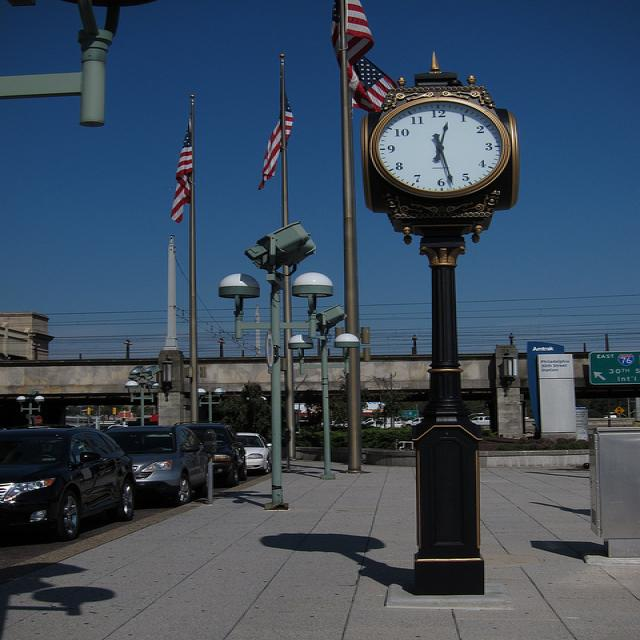Vehicle: (2, 428, 139, 539), (102, 425, 214, 506), (177, 422, 246, 480), (238, 432, 274, 470), (468, 416, 491, 426), (403, 418, 424, 427), (363, 418, 383, 424)
